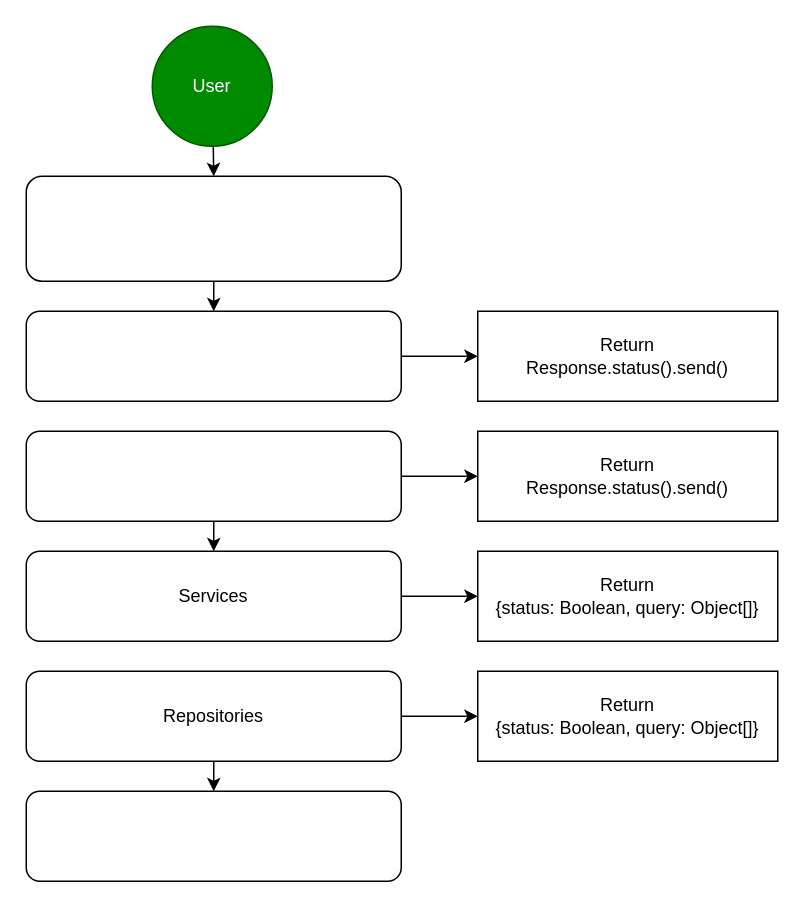
The diagram is 804 pixels wide and 908 high, and some of its shapes have lost their labels. The shapes that lost their labels are listed below. From the top down, each one's box as (x1, y1, x2, y2) in pixels, then its label:
(25, 175, 401, 281): Models
(25, 310, 401, 401): Middlewares
(25, 430, 401, 521): Controllers
(25, 790, 401, 881): Database
